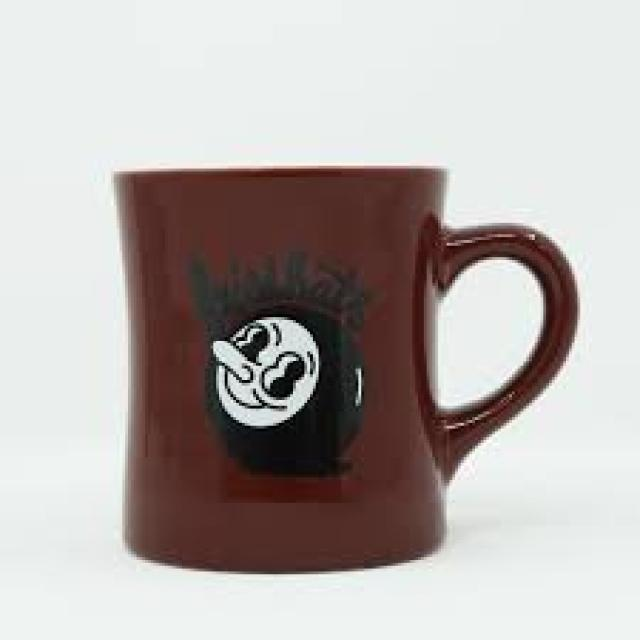taza: (112, 160, 580, 574)
